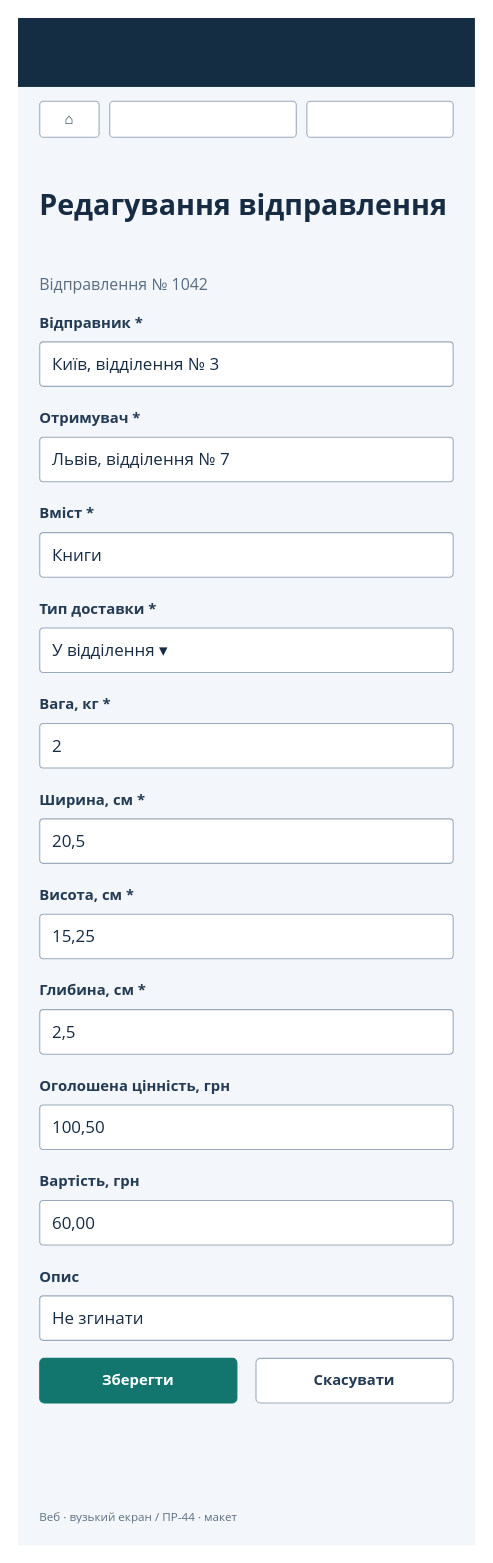
Image size: 493x1563. Some labels were removed from this diagram. The box of each missing label's shape, as (x1, y1, x2, y2) in pixels:
POSTSERVICE: (17, 17, 474, 86)
Відправлення: (109, 100, 296, 137)
Про програму: (306, 100, 453, 137)
